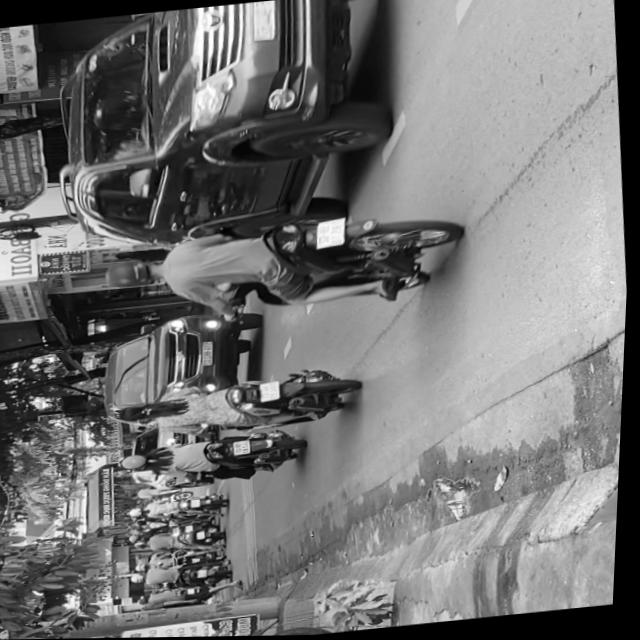helmet: (103, 253, 165, 289), (122, 451, 155, 471)
licenseplate: (97, 199, 469, 330), (101, 362, 364, 444), (115, 424, 310, 490)
nohelmet: (316, 218, 347, 248), (261, 381, 283, 401), (237, 439, 255, 454)
